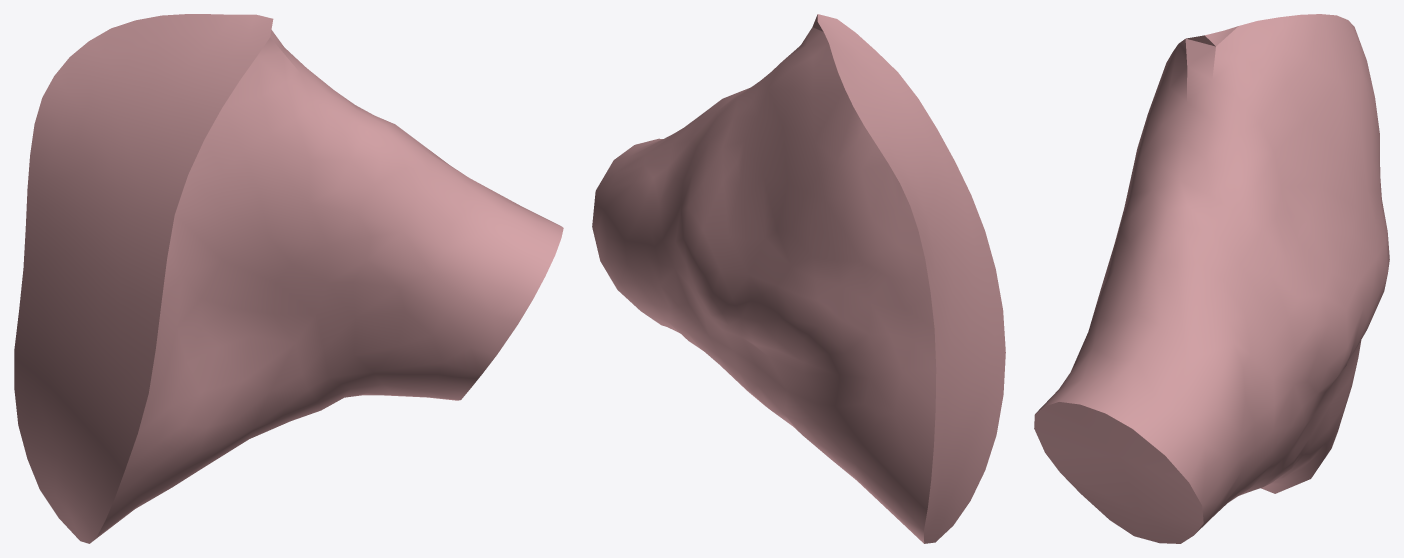
Rendered from fma78470-l_mm3110.glb.
3 views of the same model, side by side, from view 1: azimuth 30°, elevation 25°; view 2: azimuth 150°, elevation 25°; view 3: azimuth 270°, elevation 25° (orthographic). The views are drawn at different scales.
Parts seen in each view (by area): view 1: FMA78470-L_MM3110; view 2: FMA78470-L_MM3110; view 3: FMA78470-L_MM3110.
Boxes of the visible parts, x1,y1,x2,y2 form: FMA78470-L_MM3110: (14,14,563,543); FMA78470-L_MM3110: (592,14,1005,543); FMA78470-L_MM3110: (1034,14,1389,543).
Bounding box in the file's own units: 0.00638 × 0.00685 × 0.00407.
